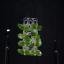leaf: (17, 23, 25, 31), (17, 33, 25, 39), (35, 41, 42, 47), (24, 27, 32, 32), (18, 49, 24, 55), (29, 50, 35, 56), (29, 42, 35, 48), (18, 41, 25, 46), (30, 24, 37, 29), (35, 51, 42, 56), (37, 25, 42, 31), (25, 35, 30, 41), (24, 50, 30, 55), (36, 34, 41, 40), (32, 30, 36, 37)
